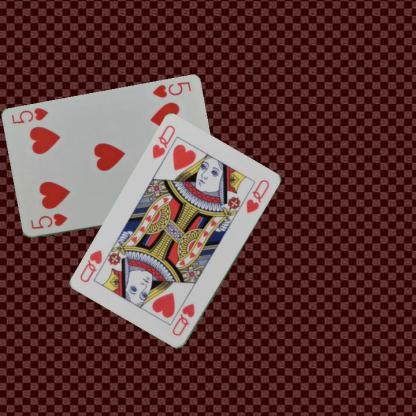5h: (150, 80, 192, 100), (28, 211, 68, 230)
Qh: (150, 122, 176, 160), (170, 301, 196, 338)
